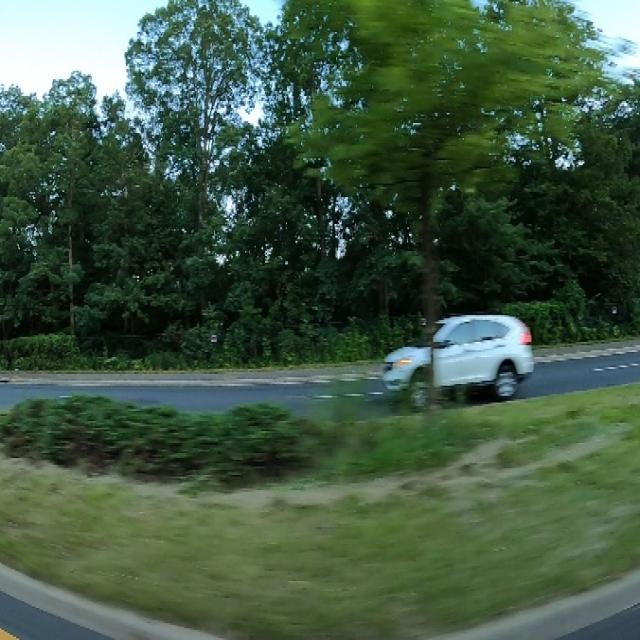car: (374, 288, 548, 413)
